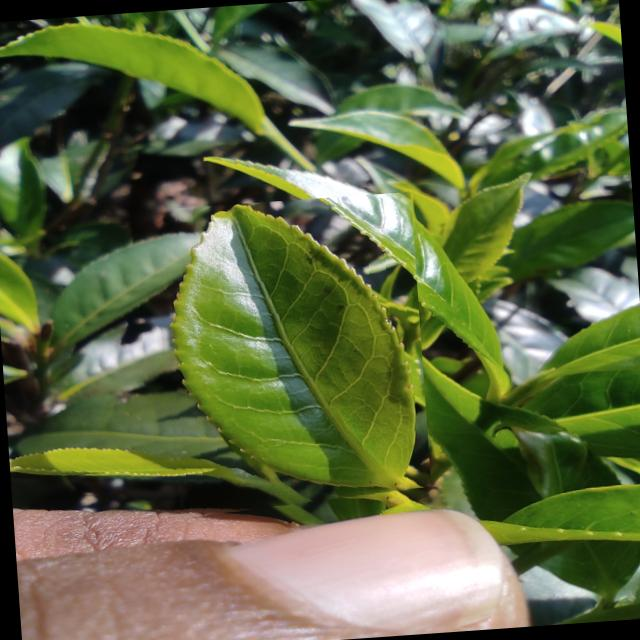Category B 2-4 days: (150, 192, 432, 518)
